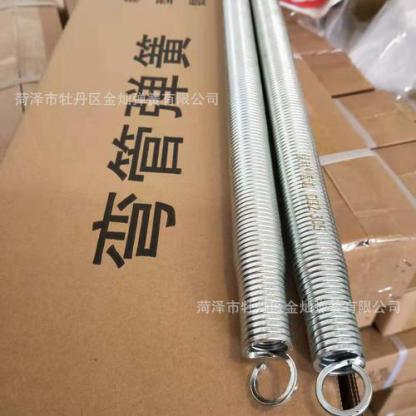FOD: (251, 0, 378, 415), (221, 0, 301, 410)
